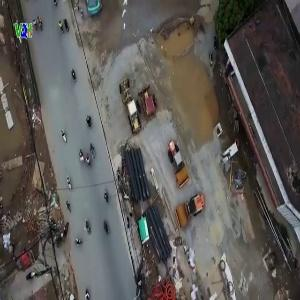drone: (209, 140, 246, 177)
